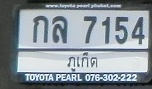txt01: (31, 15, 49, 44)
txt31: (51, 15, 68, 44)
